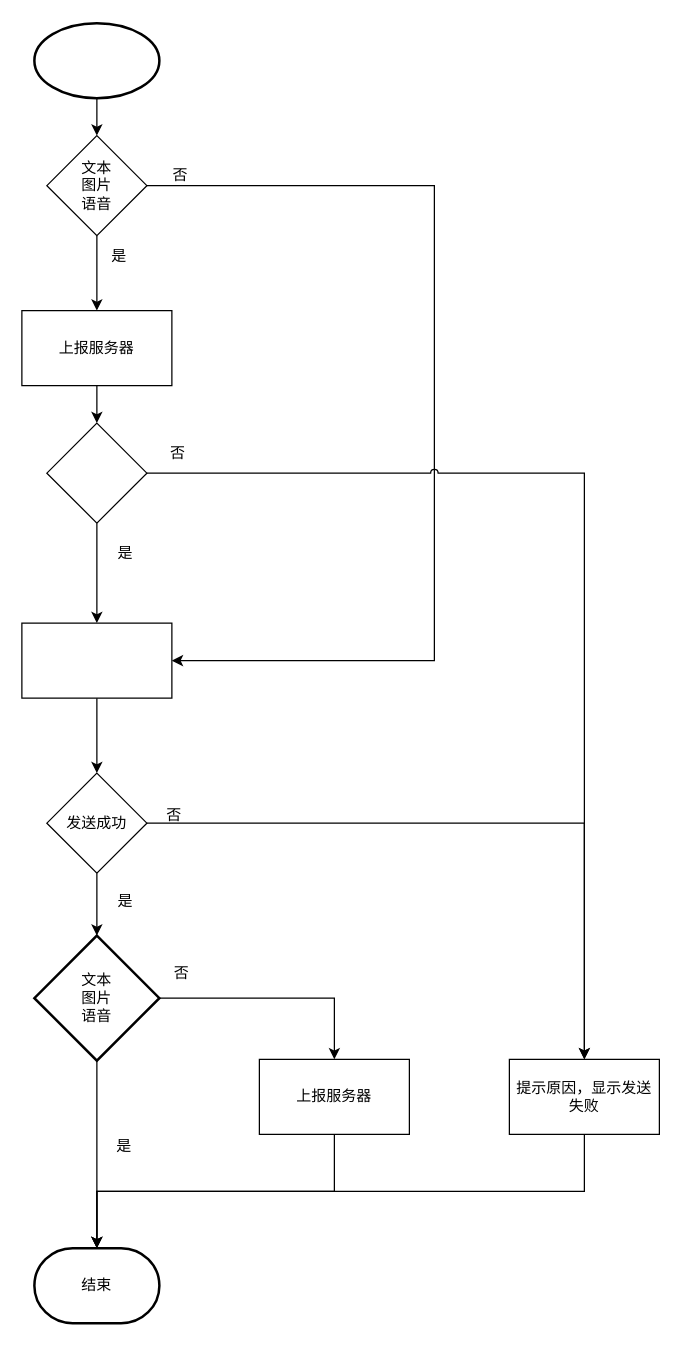
This 681x1345 diagram has some shape labels left out. The shapes that lost their labels are listed below. From the top down, each one's centre as x and y in pixels, then its label:
the point at 96,60: 开始发送私聊消息
the point at 96,472: 是否允许发送
the point at 96,660: 发环信消息
